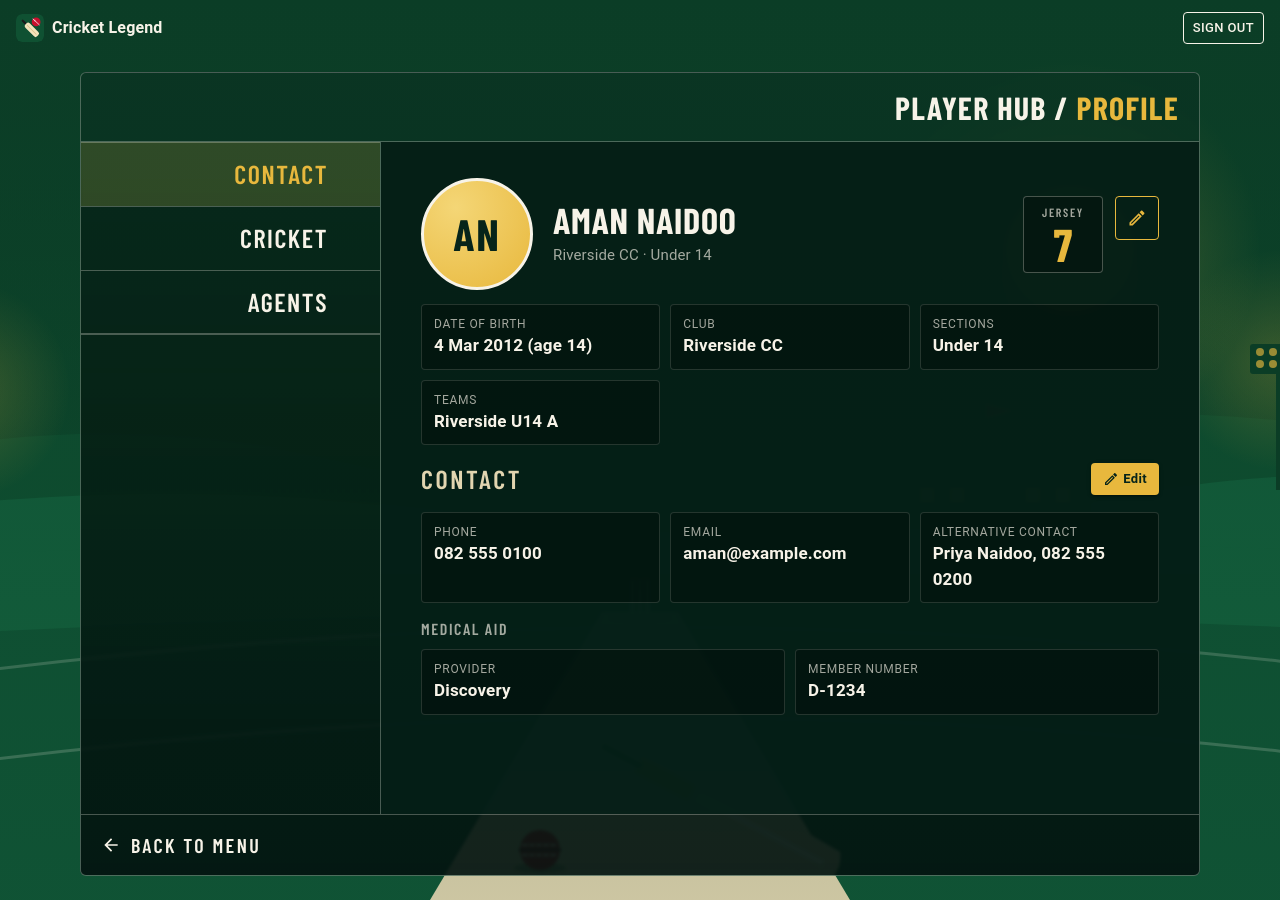
Test: MyPlayerPage on a desktop › the footer Back › is Back to menu inside a section, returning to Availability with the main menu
What coordinates should you click on to do the following:
click the button "Back to menu"
I would click on:
 (181, 845)
Its box is [101,823,261,867].
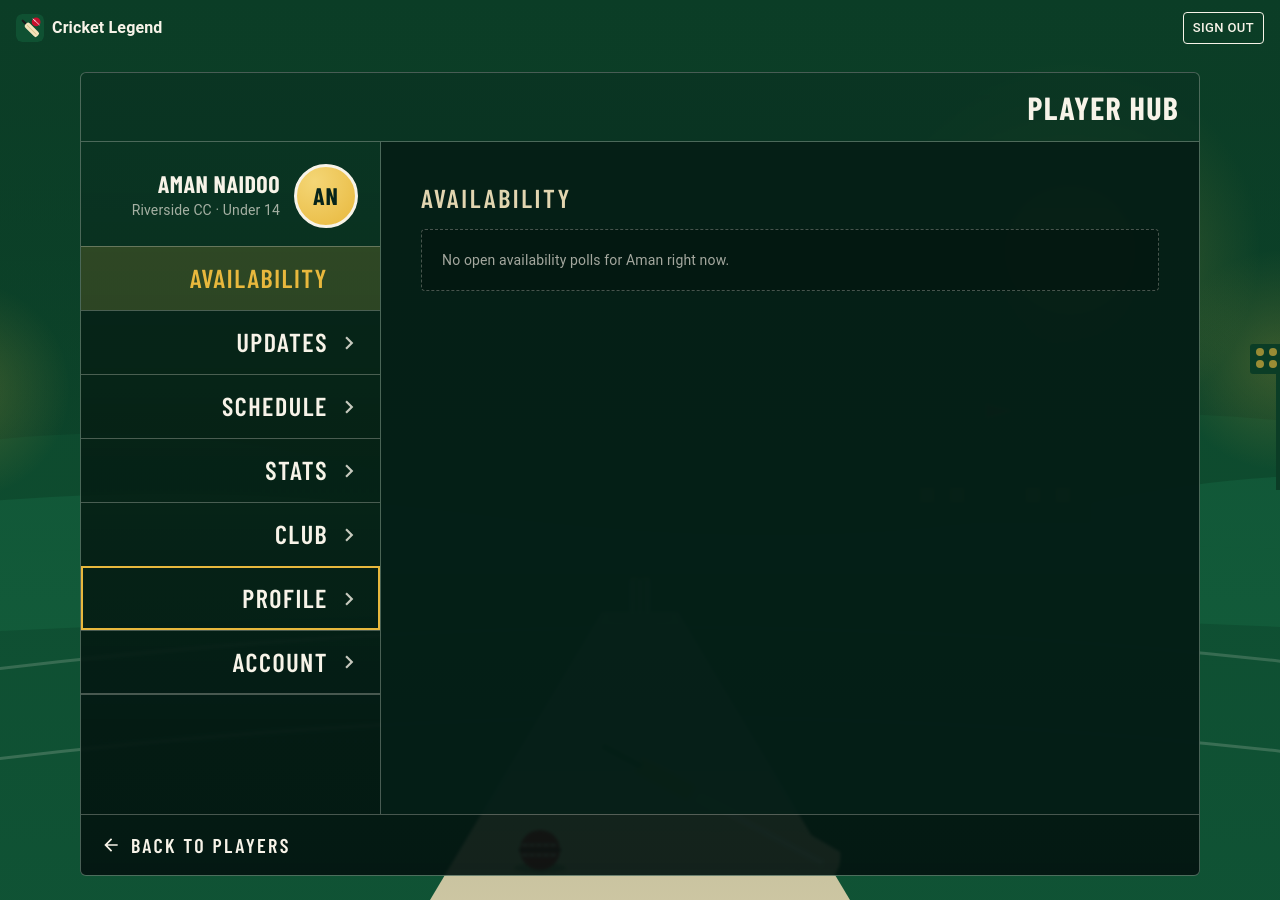
Now the element with test id "hub-profile" is gone
